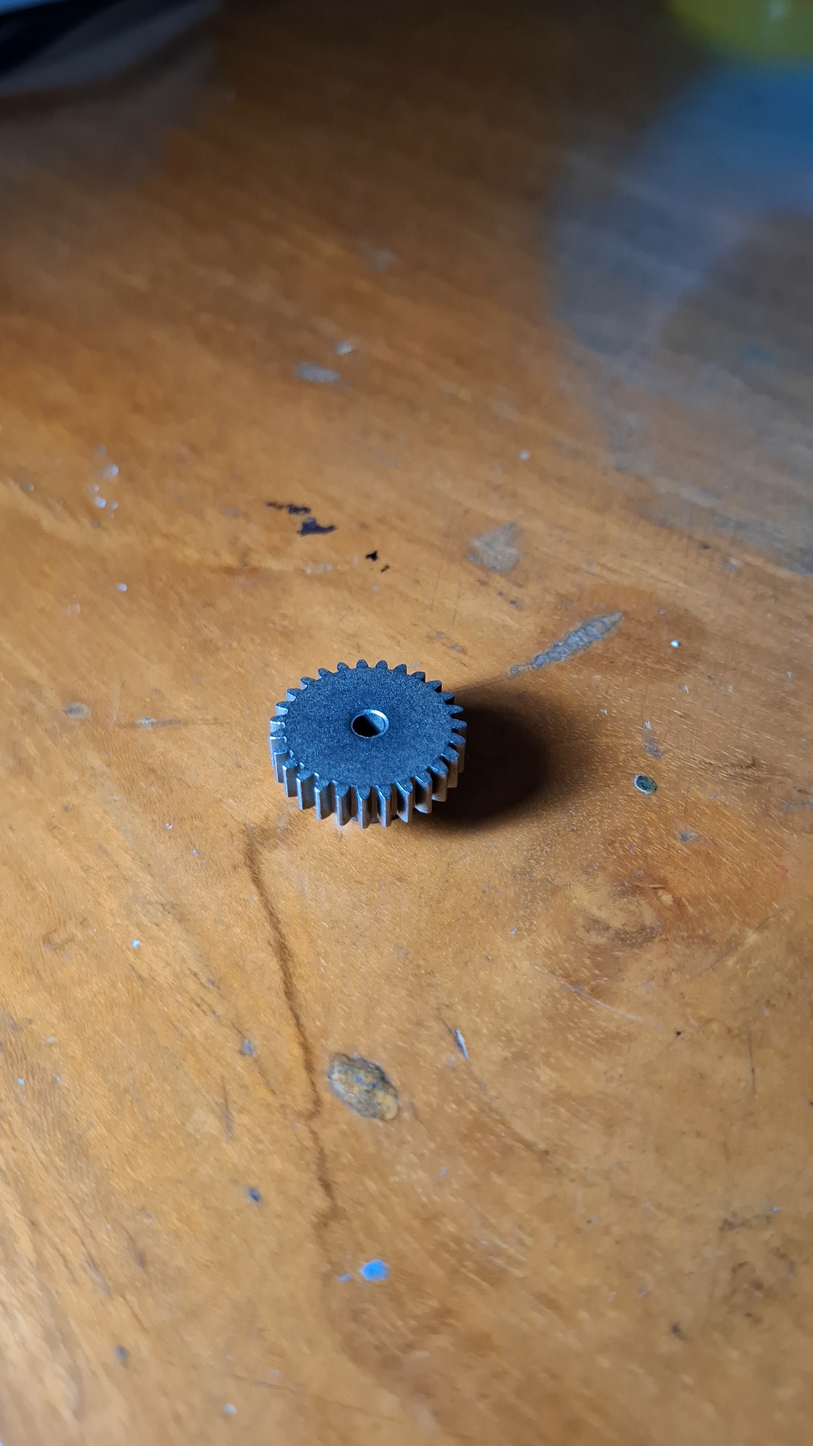spur gear: (269, 661, 466, 827)
